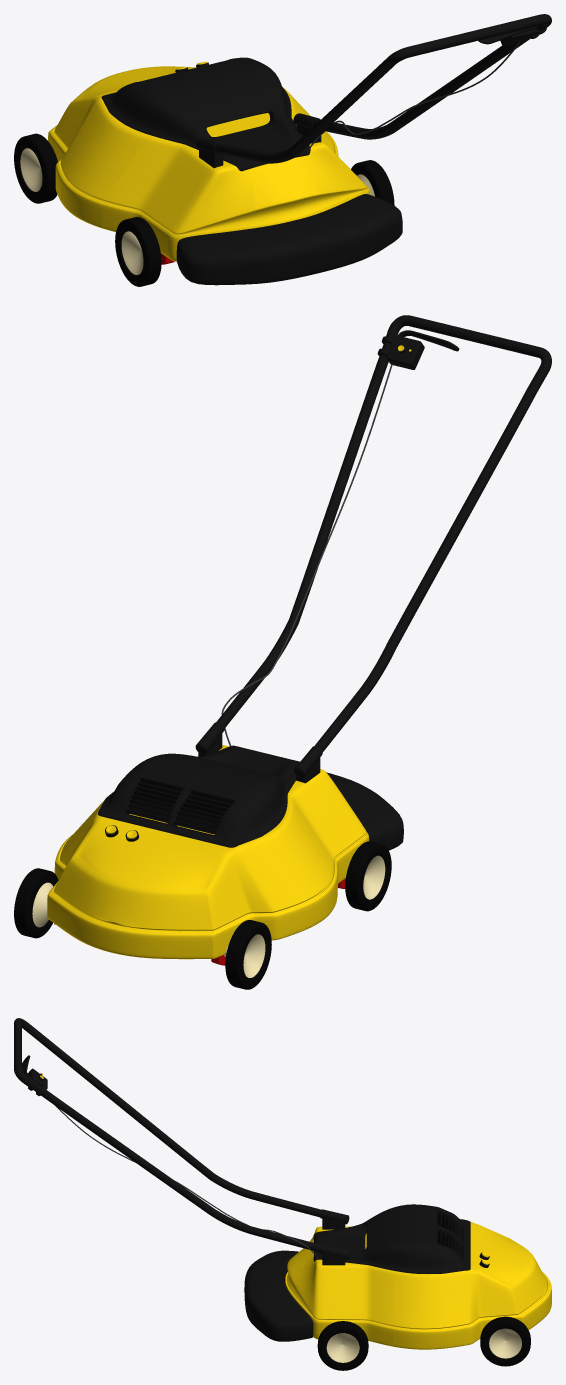
Rendered from Lawnmower.FBX.
3 views of the same model, one above another, from view 1: azimuth 30°, elevation 25°; view 2: azimuth 150°, elevation 25°; view 3: azimuth 270°, elevation 25° (orthographic). The views are drawn at different scales.
Visible parts, largest first — view 1: Box01, lawnmowler, Line01, Cylinder03.Cylinder04, Cylinder01, Cylinder03, Line02; view 2: Box01, lawnmowler, Line01, Object02.Object04, Cylinder01, Cylinder03.Cylinder04, Cylinder01.Cylinder07, Line02, Box06; view 3: Box01, lawnmowler, Line01, Cylinder03, Cylinder01.Cylinder07, Object15.Object16, Object07.Object08, Object02.Object04.
Boxes of the visible parts, left/top/right/bottom form: Box01: left=48, top=66, right=369, bottom=261; lawnmowler: left=20, top=26, right=537, bottom=285; Line01: left=214, top=14, right=551, bottom=163; Cylinder03.Cylinder04: left=115, top=217, right=161, bottom=286; Cylinder01: left=14, top=133, right=57, bottom=203; Cylinder03: left=351, top=160, right=394, bottom=205; Line02: left=310, top=42, right=520, bottom=147; Box01: left=47, top=745, right=369, bottom=959; lawnmowler: left=98, top=330, right=459, bottom=977; Line01: left=216, top=315, right=551, bottom=752; Object02.Object04: left=124, top=776, right=185, bottom=824; Cylinder01: left=225, top=920, right=271, bottom=989; Cylinder03.Cylinder04: left=345, top=841, right=391, bottom=911; Cylinder01.Cylinder07: left=14, top=868, right=58, bottom=938; Line02: left=221, top=363, right=392, bottom=746; Box06: left=387, top=335, right=424, bottom=369; Box01: left=285, top=1221, right=551, bottom=1349; lawnmowler: left=22, top=1055, right=488, bottom=1341; Line01: left=14, top=1018, right=322, bottom=1252; Cylinder03: left=317, top=1321, right=368, bottom=1370; Cylinder01.Cylinder07: left=480, top=1316, right=530, bottom=1366; Object15.Object16: left=489, top=1328, right=521, bottom=1358; Object07.Object08: left=326, top=1333, right=359, bottom=1362; Object02.Object04: left=437, top=1227, right=463, bottom=1259.
Size of the model in its own units: 20.67 by 30.24 by 51.98.
